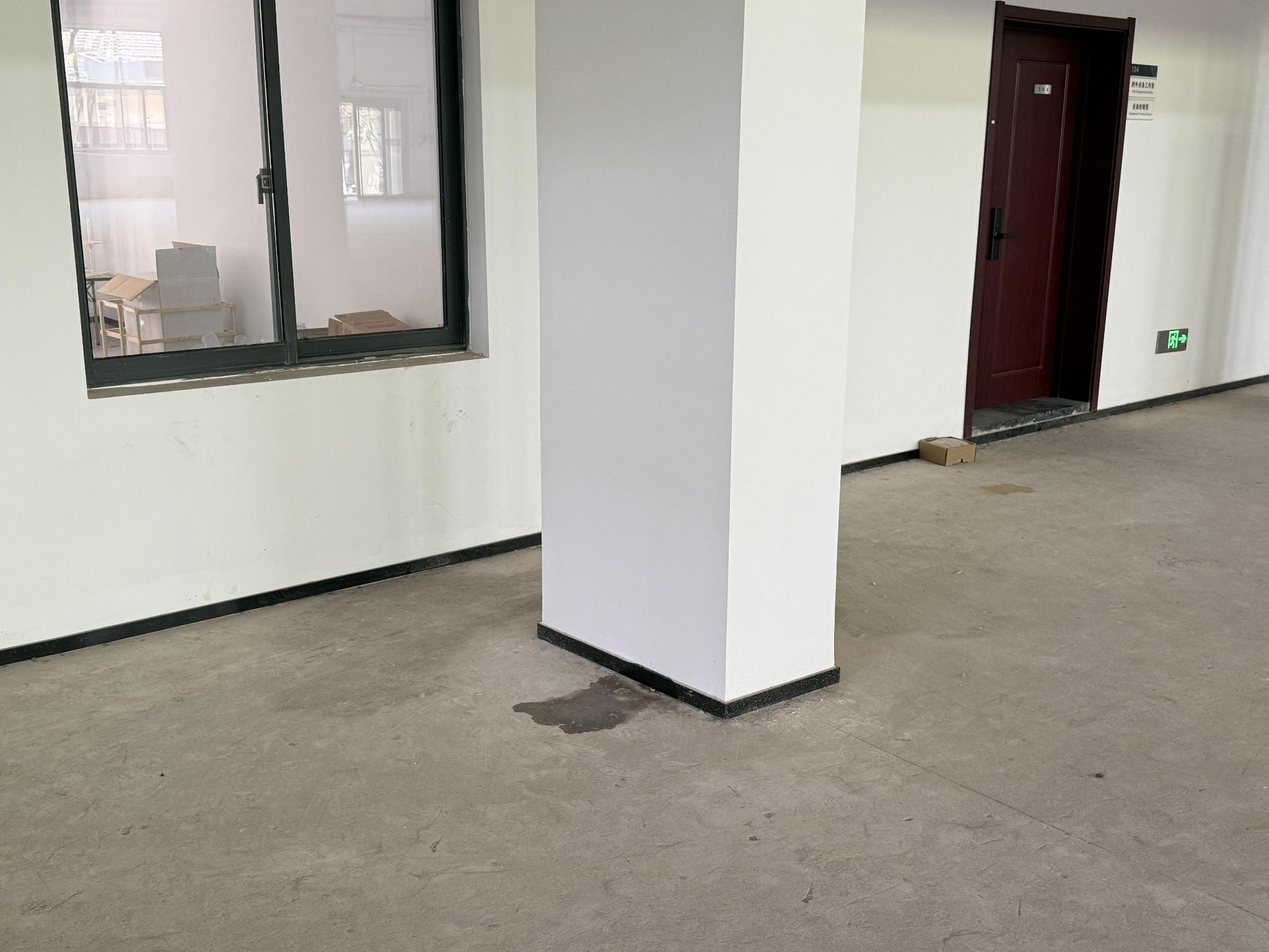water accumulation: (512, 673, 654, 734)
